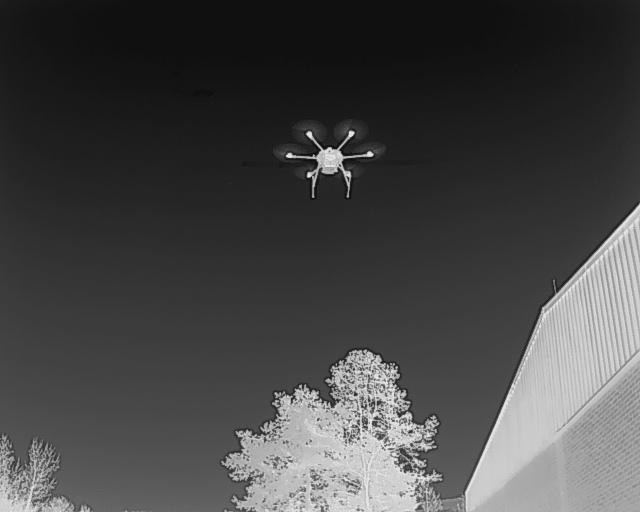drone: (268, 113, 388, 206)
